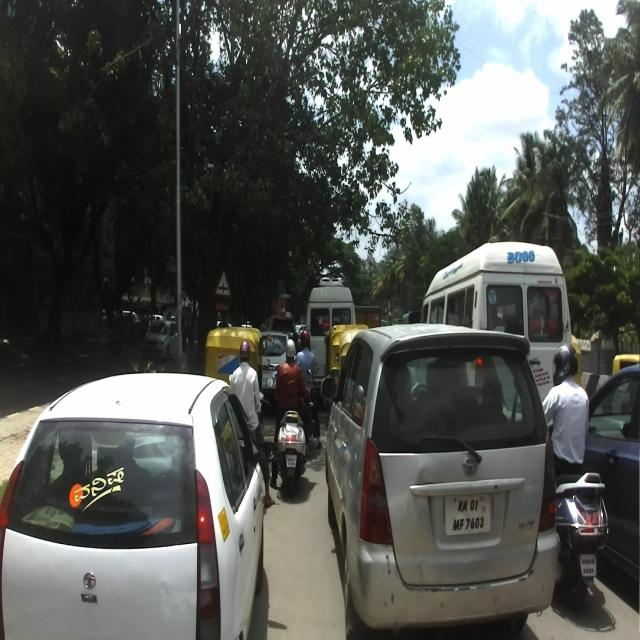Car_TATA: (0, 371, 277, 639)
Car_Toyota: (320, 323, 558, 639)
mini-bus: (419, 241, 571, 420)
scooter: (544, 422, 609, 614), (272, 368, 312, 500)
